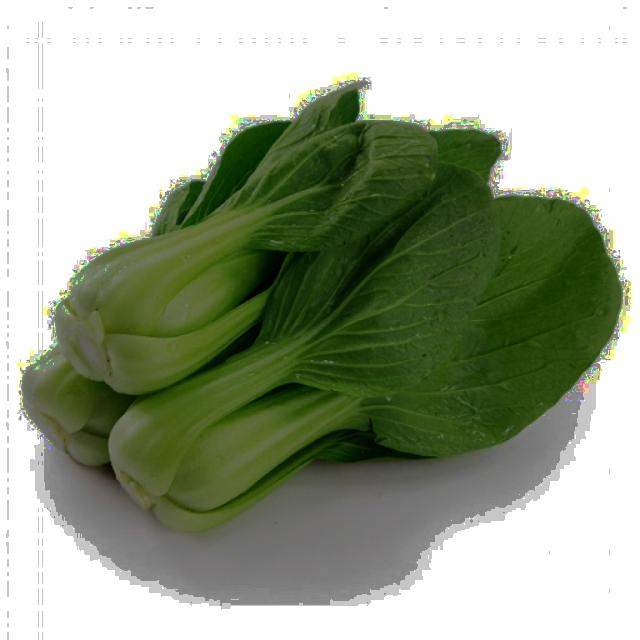chinese_cabbage: (38, 114, 606, 542)
